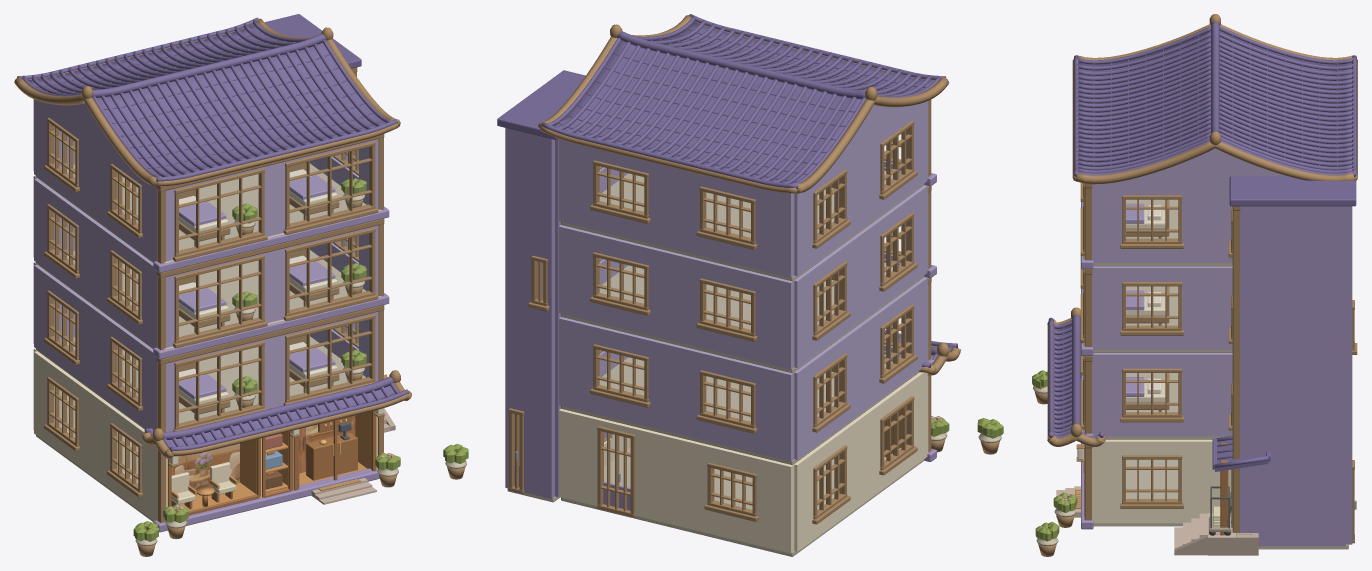
3 renders of one model, left to right at view 1: azimuth 30°, elevation 25°; view 2: azimuth 150°, elevation 25°; view 3: azimuth 270°, elevation 25°, orthographic. The views are drawn at different scales.
Parts seen in each view (by area): view 1: SM_22_01_建筑墙体, SM_22_02_曲面屋顶, SM_22_04_门窗楼梯, SM_22_06_景观设施, SM_22_03_木构回廊, SM_22_05_景观植物, SM_22_06_院内及专用铺地; view 2: SM_22_01_建筑墙体, SM_22_02_曲面屋顶, SM_22_04_门窗楼梯, SM_22_05_景观植物, SM_22_03_木构回廊; view 3: SM_22_01_建筑墙体, SM_22_02_曲面屋顶, SM_22_04_门窗楼梯, SM_22_03_木构回廊, SM_22_06_景观设施, SM_22_06_院内及专用铺地, SM_22_05_景观植物.
Part boxes in pixels (x1,y1,x2,y2): SM_22_01_建筑墙体: (33, 99, 389, 532); SM_22_02_曲面屋顶: (14, 14, 411, 458); SM_22_04_门窗楼梯: (44, 118, 385, 515); SM_22_06_景观设施: (171, 162, 357, 509); SM_22_03_木构回廊: (156, 67, 384, 522); SM_22_05_景观植物: (133, 178, 468, 556); SM_22_06_院内及专用铺地: (311, 408, 395, 504); SM_22_01_建筑墙体: (505, 101, 936, 556); SM_22_02_曲面屋顶: (497, 14, 960, 375); SM_22_04_门窗楼梯: (508, 120, 917, 524); SM_22_05_景观植物: (931, 416, 1003, 454); SM_22_03_木构回廊: (927, 99, 931, 452); SM_22_01_建筑墙体: (1081, 148, 1352, 549); SM_22_02_曲面屋顶: (1047, 14, 1357, 471); SM_22_04_门窗楼梯: (1076, 182, 1357, 543); SM_22_03_木构回廊: (1084, 183, 1240, 535); SM_22_06_景观设施: (1126, 199, 1232, 535); SM_22_06_院内及专用铺地: (1056, 486, 1258, 555); SM_22_05_景观植物: (1032, 370, 1077, 556).
Size of the model in its own units: 10.72 by 12.24 by 9.03.
Materials: 37 (1 with a texture image).
